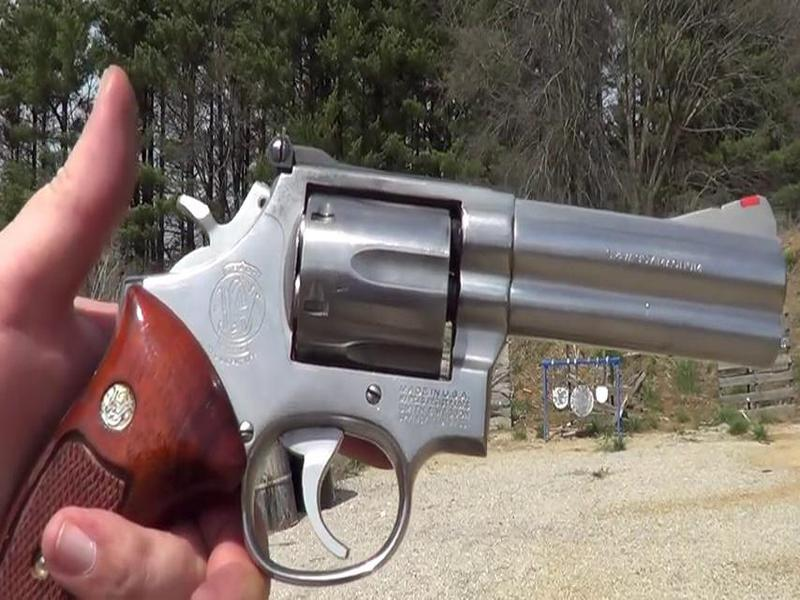Revolver: (85, 137, 800, 584)
